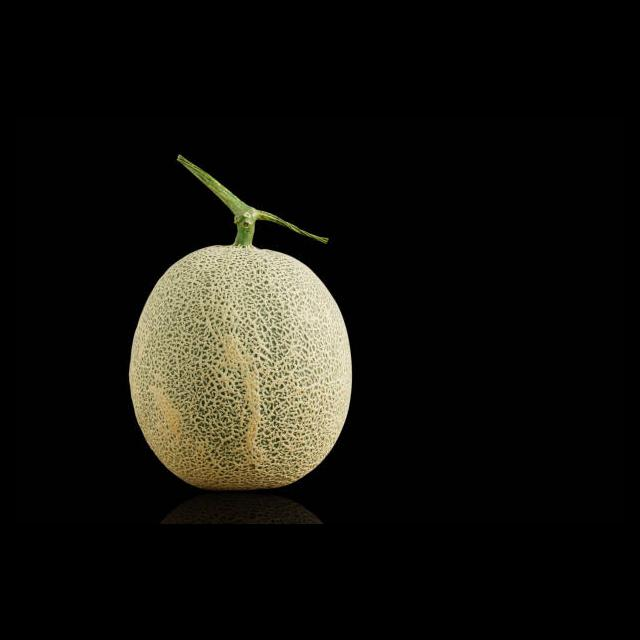Hami Melon: (128, 155, 353, 488)
